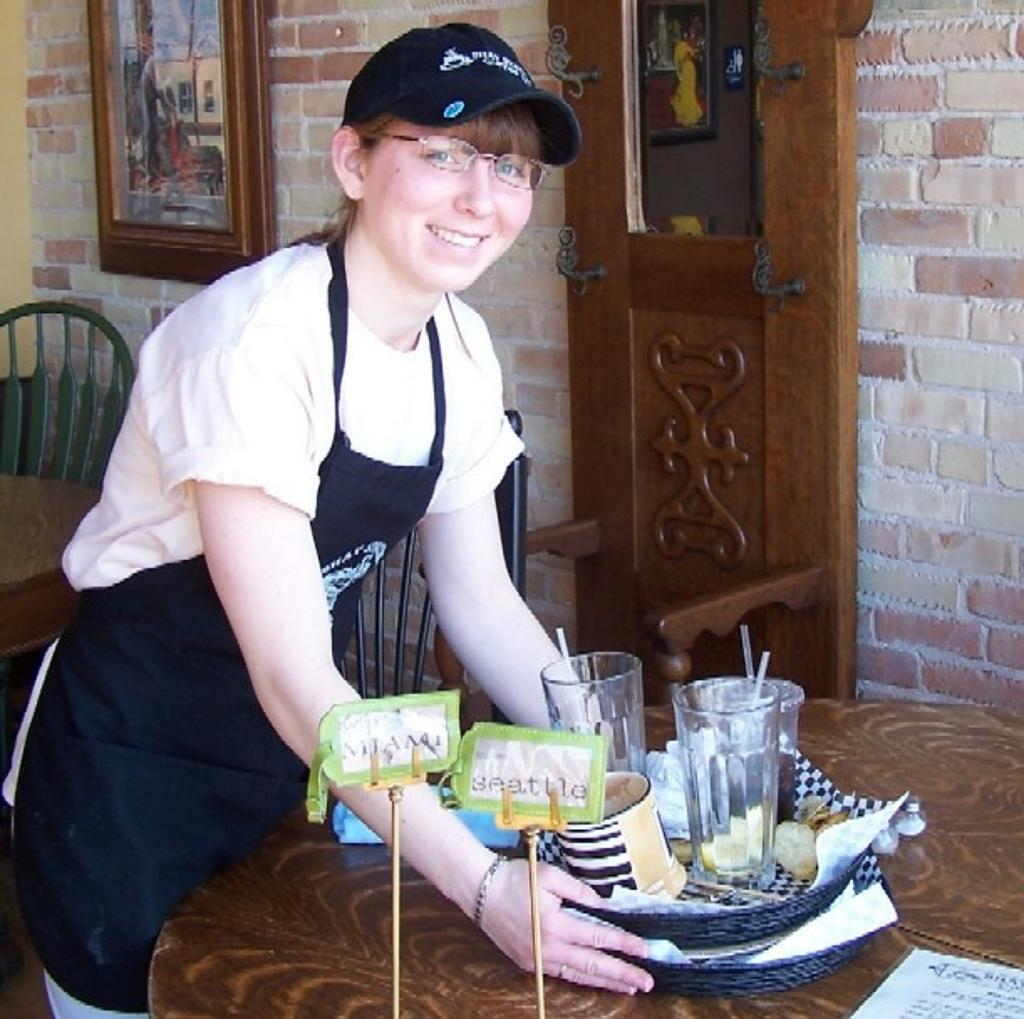face: (367, 85, 537, 295)
